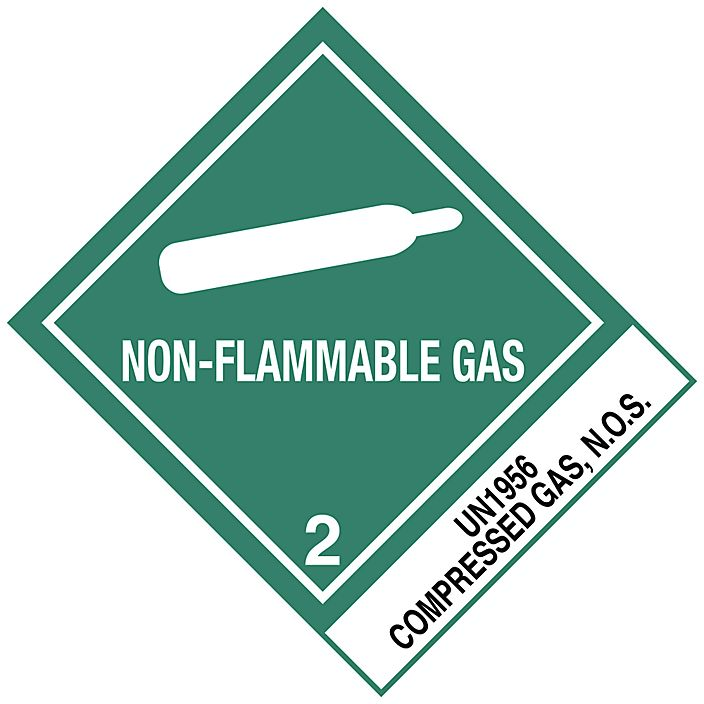NonFlammableGas: (8, 9, 630, 633)
